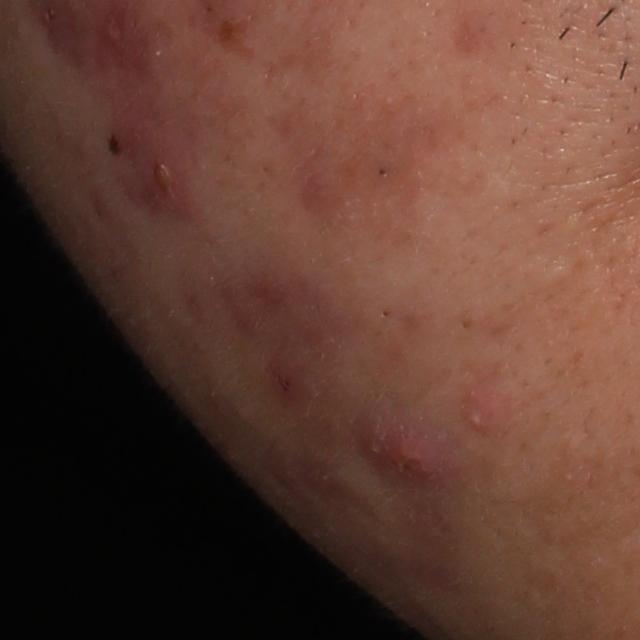hypertrophic_scar: (532, 257, 572, 292)
nevus: (103, 131, 123, 159)
papule: (383, 430, 441, 491), (139, 156, 196, 210)
